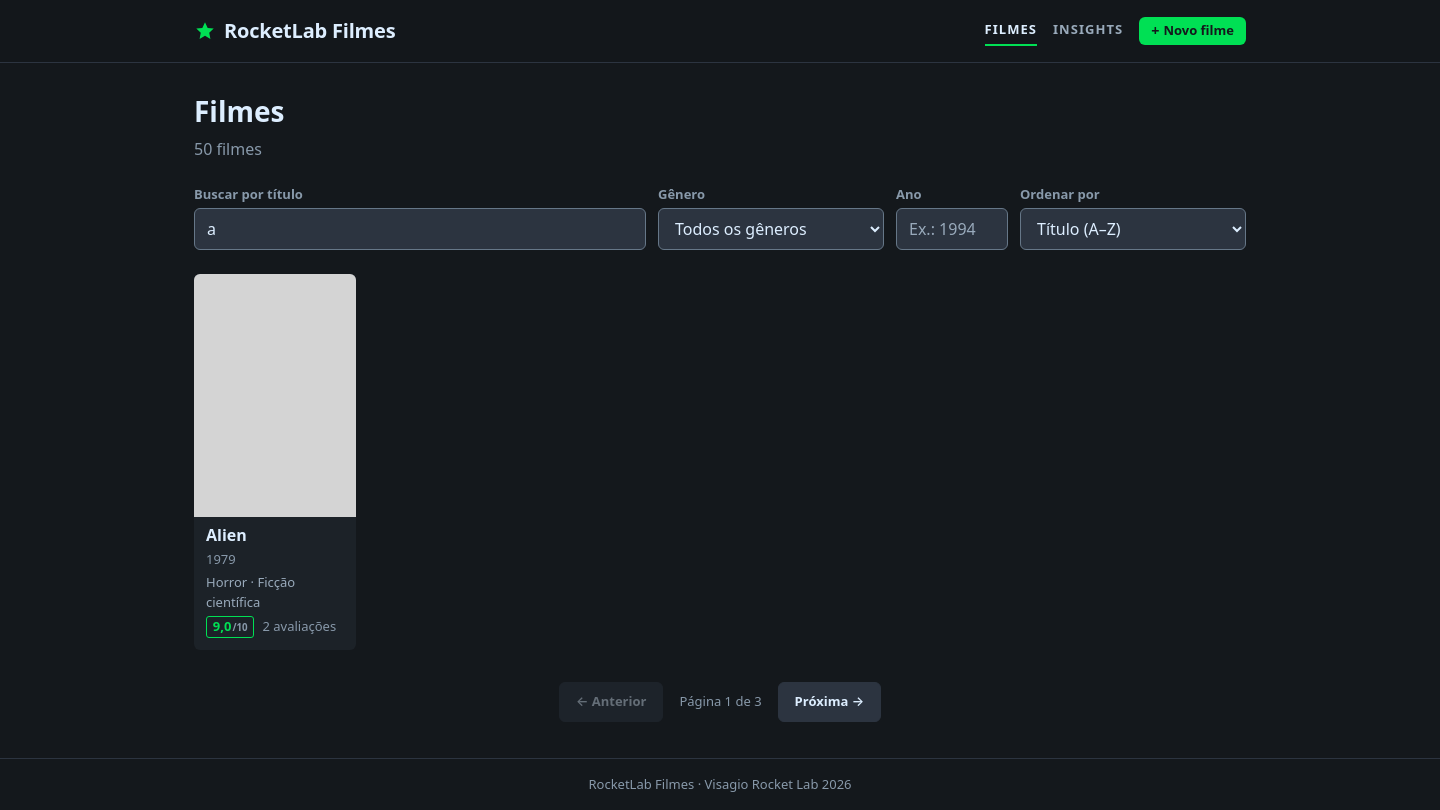
Test: MoviesPage — paginação › navega para a próxima página e atualiza a URL
Check: the navigation bar named "Paginação" shows "Página 1 de 3", box [559,682,881,722]
Click the button "Próxima →".
click(829, 702)  # box [778,682,881,722]
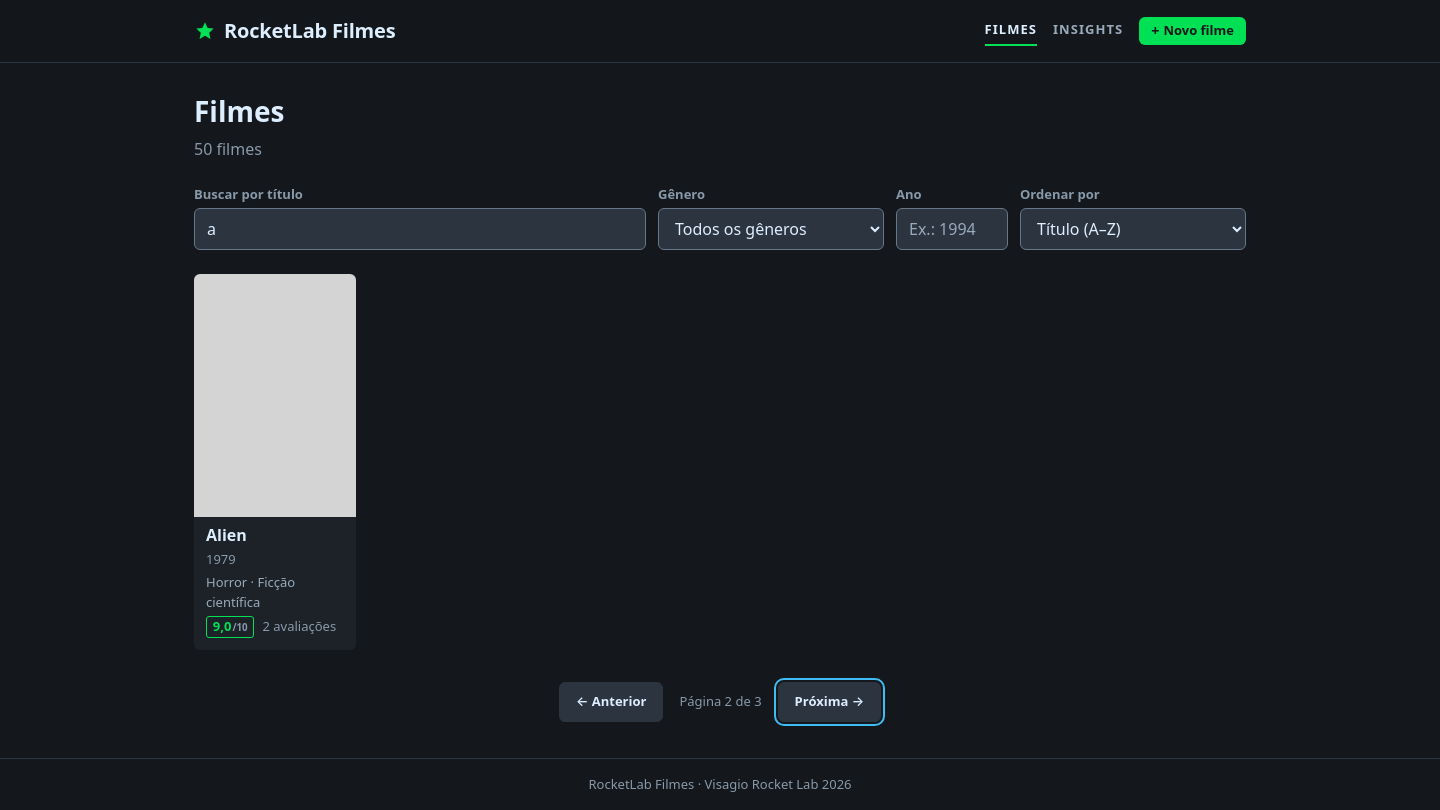
Check: the navigation bar named "Paginação" shows "Página 2 de 3", box [559,682,881,722]
